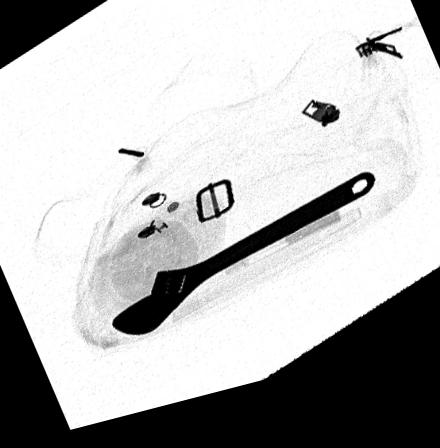Wrench: (110, 189, 378, 344)
